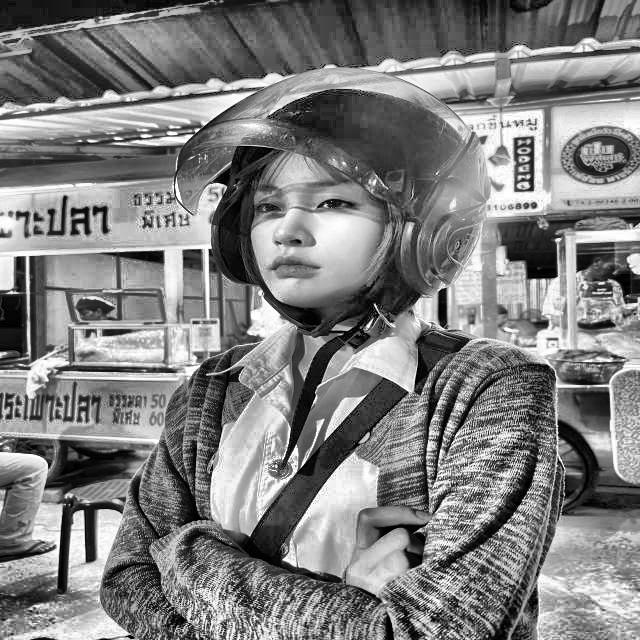Helmet: (166, 62, 498, 355)
